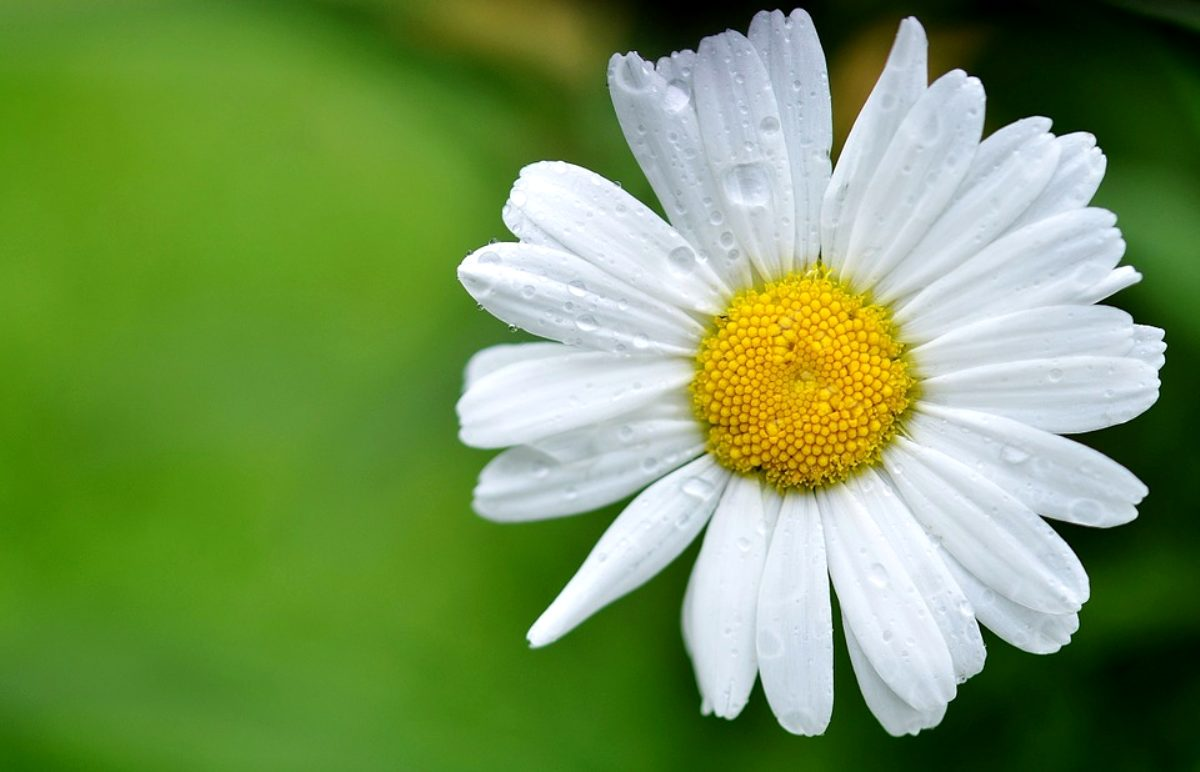papatya: (448, 17, 1181, 727)
